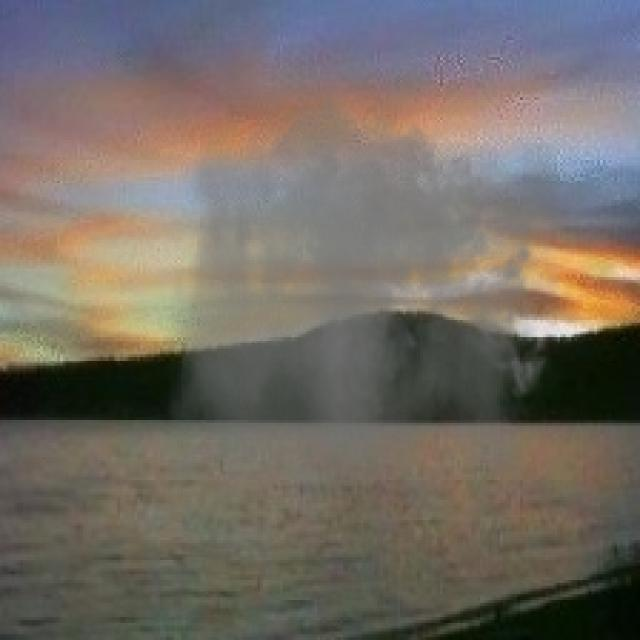smoke: (169, 74, 560, 494)
